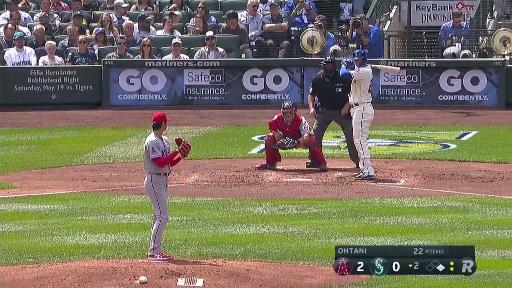pitcher: (142, 111, 190, 260)
